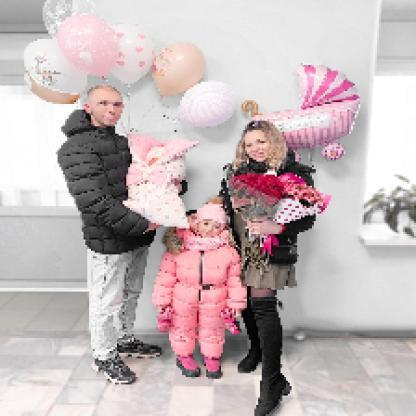child: (151, 197, 248, 381)
